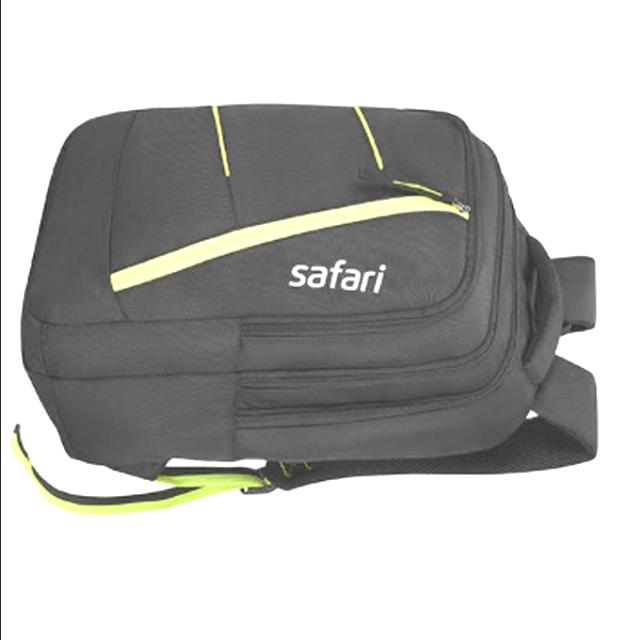backpack: (12, 103, 601, 518)
